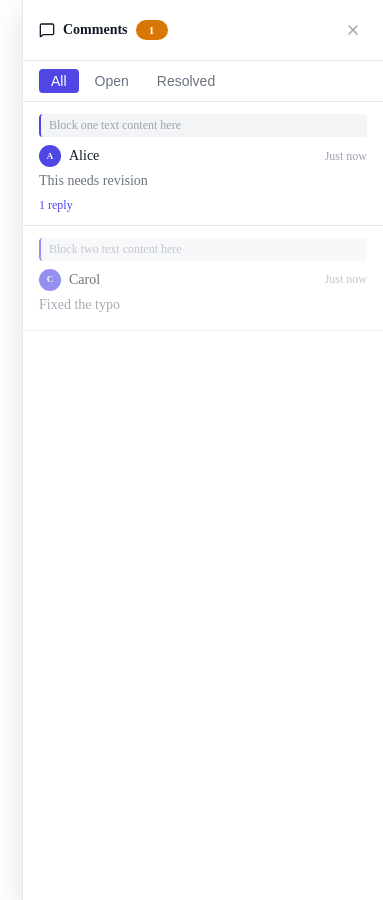
Test: CommentsSidebar › filters to show only open comments
Step 1. Click the tab "Open" → point(112, 81), box top-left (83, 69), bottom-right (141, 93)
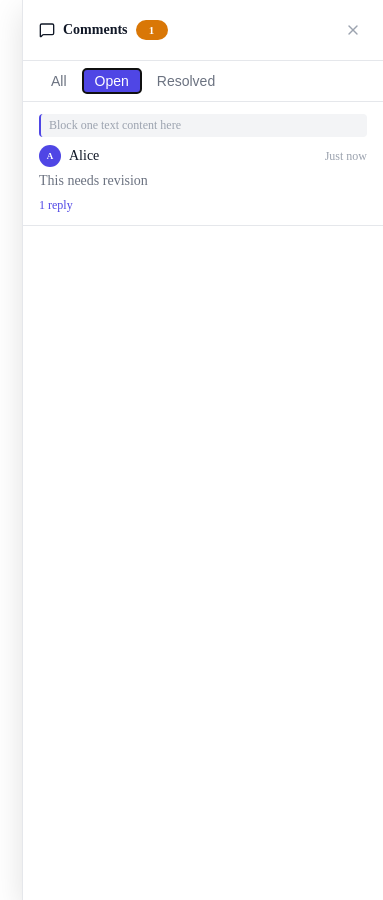
Check: the text "This needs revision" is shown, box top-left (39, 173), bottom-right (148, 188)
Check: the button "Fixed the typo" is gone
